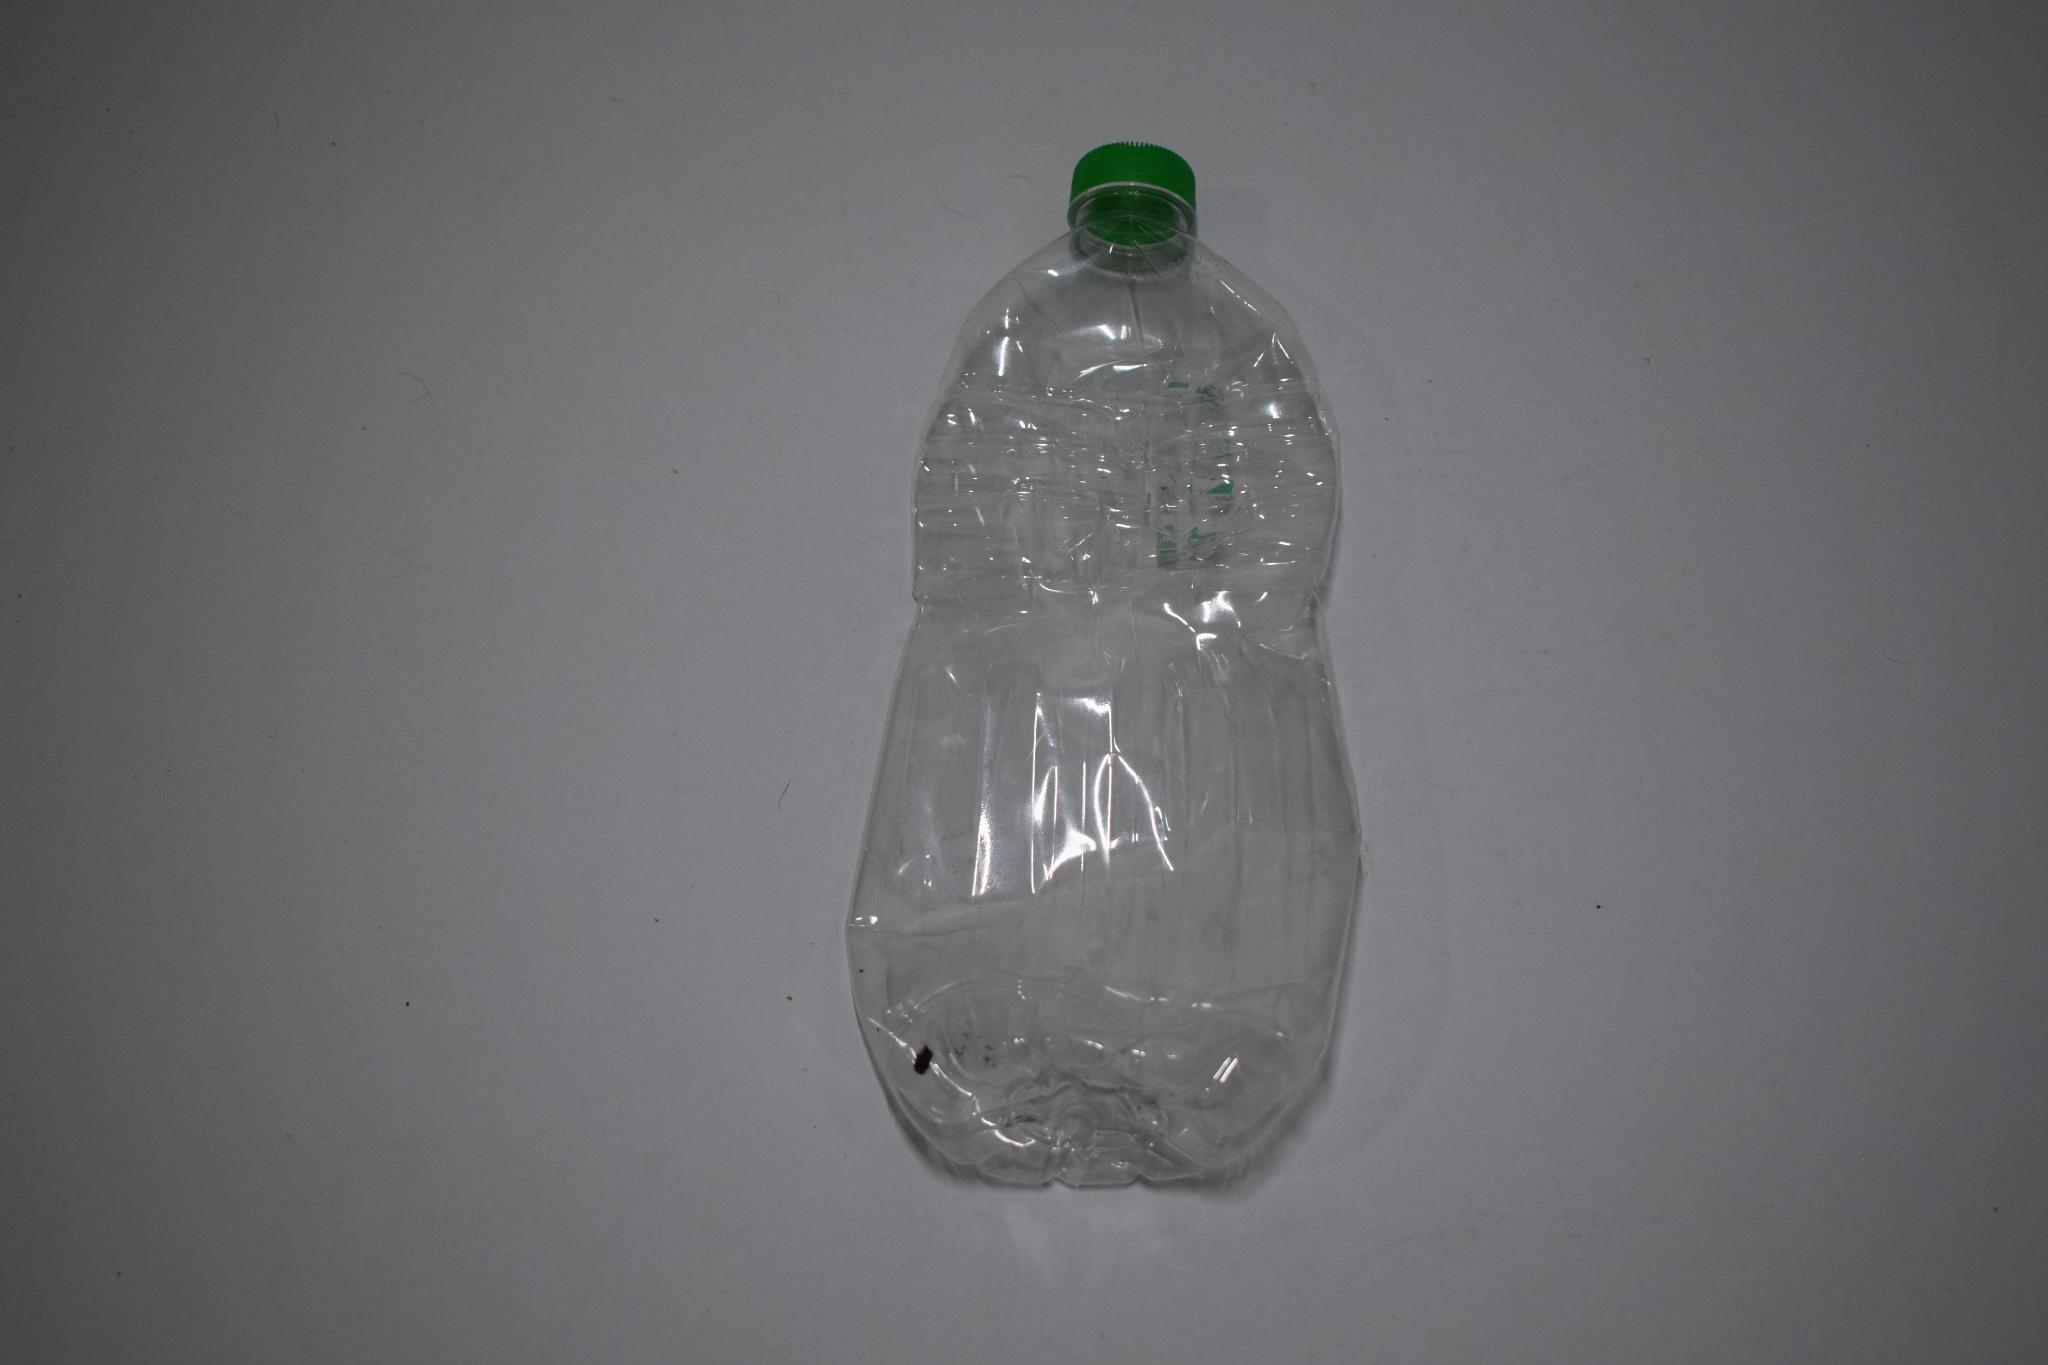bottle: (844, 96, 1437, 1228)
